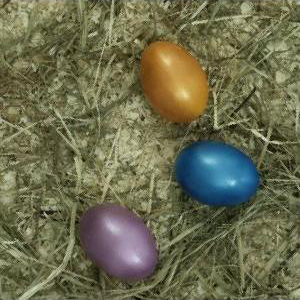egg: (79, 205, 159, 281), (140, 41, 209, 123), (175, 141, 261, 206)
